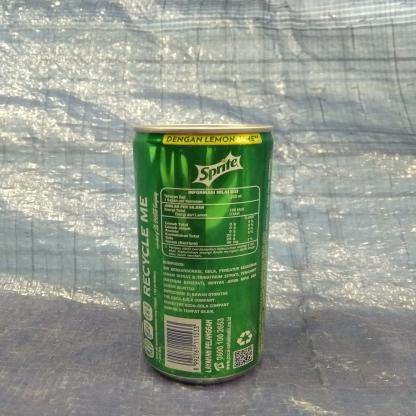bottle: (127, 118, 277, 390)
